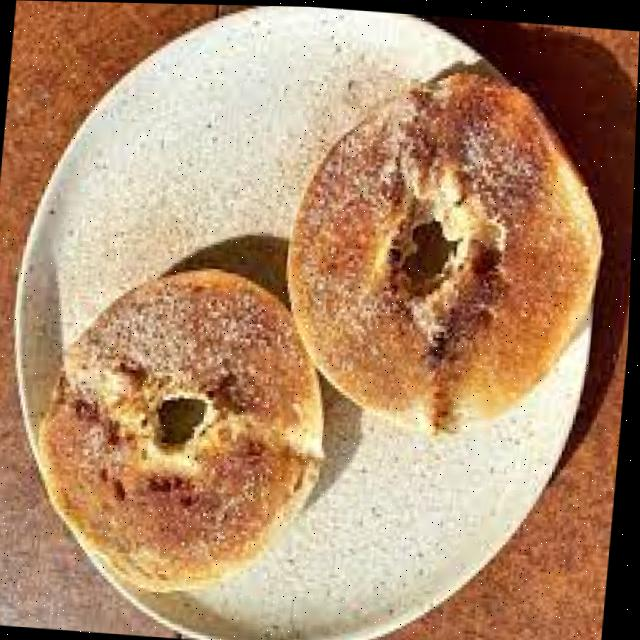Bagel: (290, 69, 602, 432), (42, 267, 326, 591)
